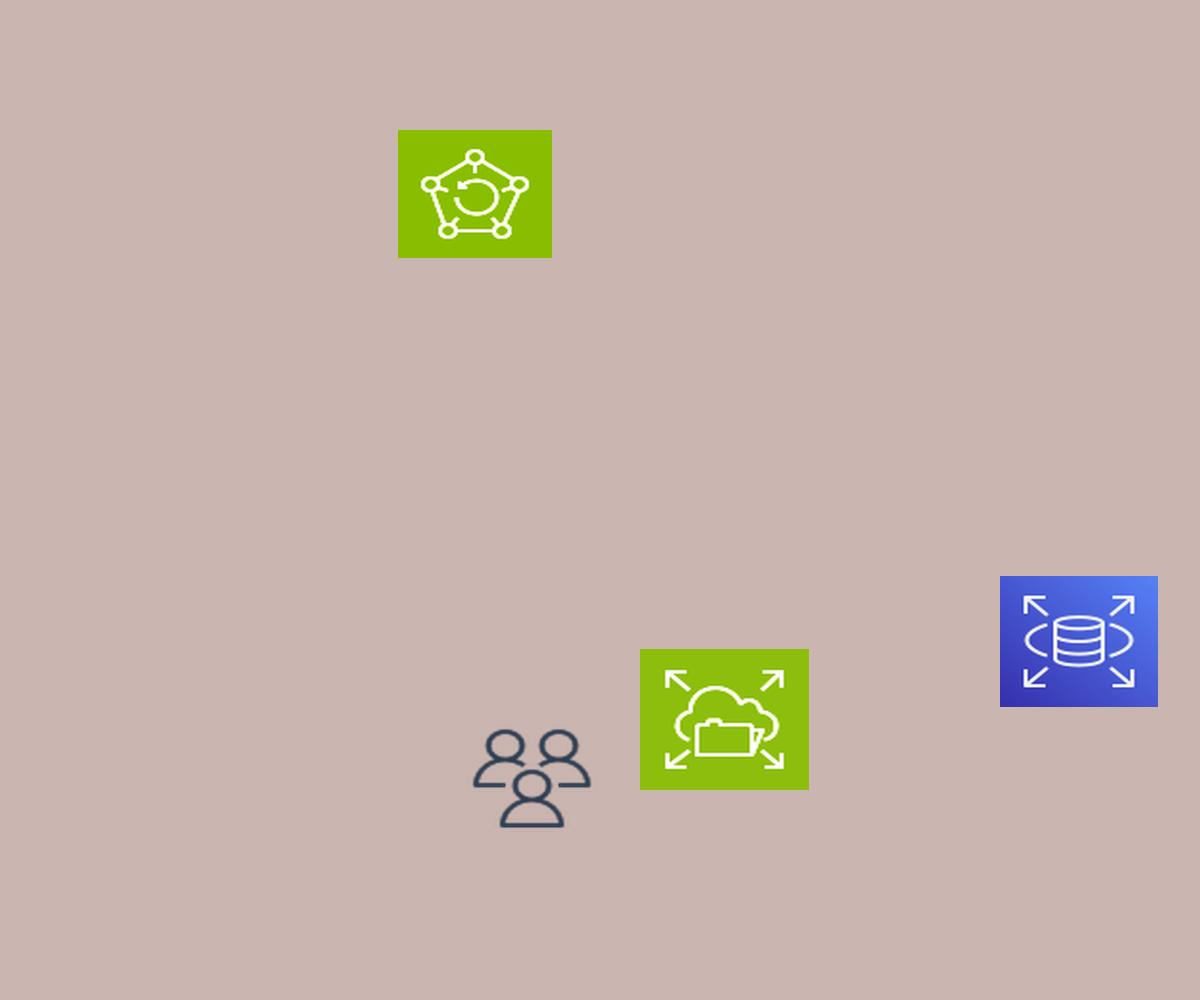AWS-Backup: (398, 130, 552, 258)
AWS-EFS: (640, 649, 809, 790)
AWS-RDS: (1000, 576, 1158, 707)
AWS-Res_Users: (468, 725, 596, 832)
